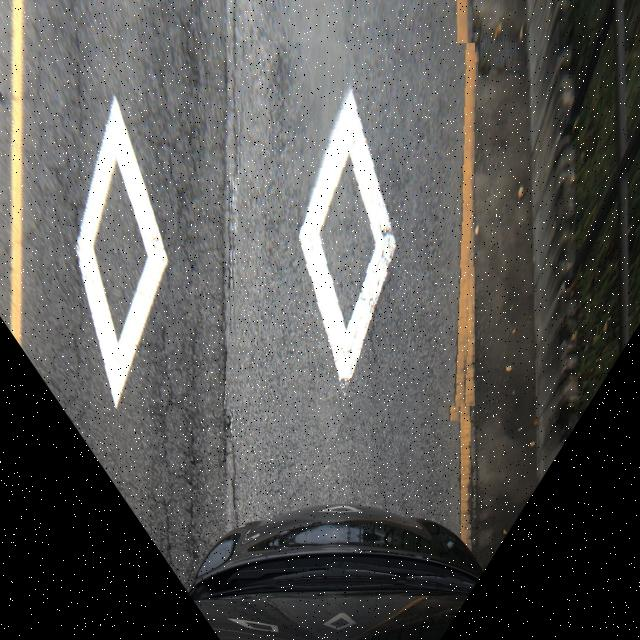diamond: (229, 43, 475, 418)
